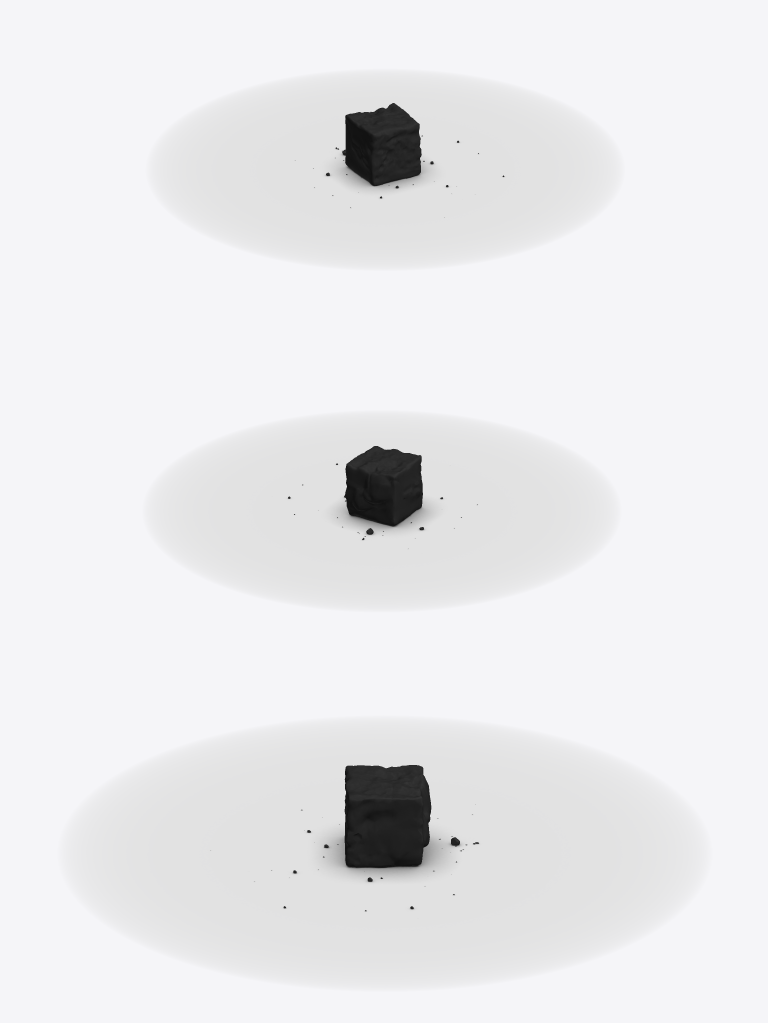
The model's file is black_abstract.glb.
3 renders of one model, top to bottom at view 1: azimuth 30°, elevation 25°; view 2: azimuth 150°, elevation 25°; view 3: azimuth 270°, elevation 25°, orthographic. The views are drawn at different scales.
Visible parts, largest first — view 1: ground, low; view 2: ground, low; view 3: ground, low.
Part boxes in pixels (x1,y1,x2,y2): ground: [147, 69, 623, 269]; low: [345, 103, 421, 185]; ground: [144, 411, 619, 611]; low: [345, 446, 422, 526]; ground: [60, 716, 709, 990]; low: [344, 765, 431, 867].
Size of the model in its own units: 18.67 by 2.02 by 18.67.
Materials: 2 (2 with a texture image).
